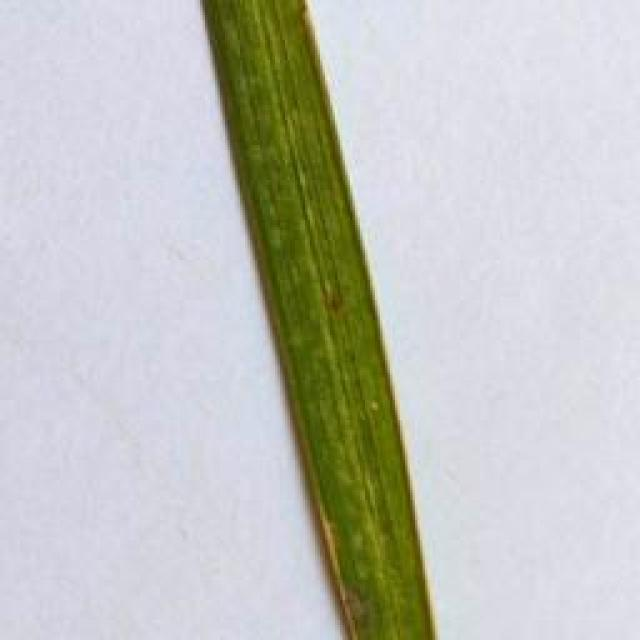Bacterial_Blight: (305, 480, 371, 640)
Brown_Spot: (315, 276, 350, 318)
